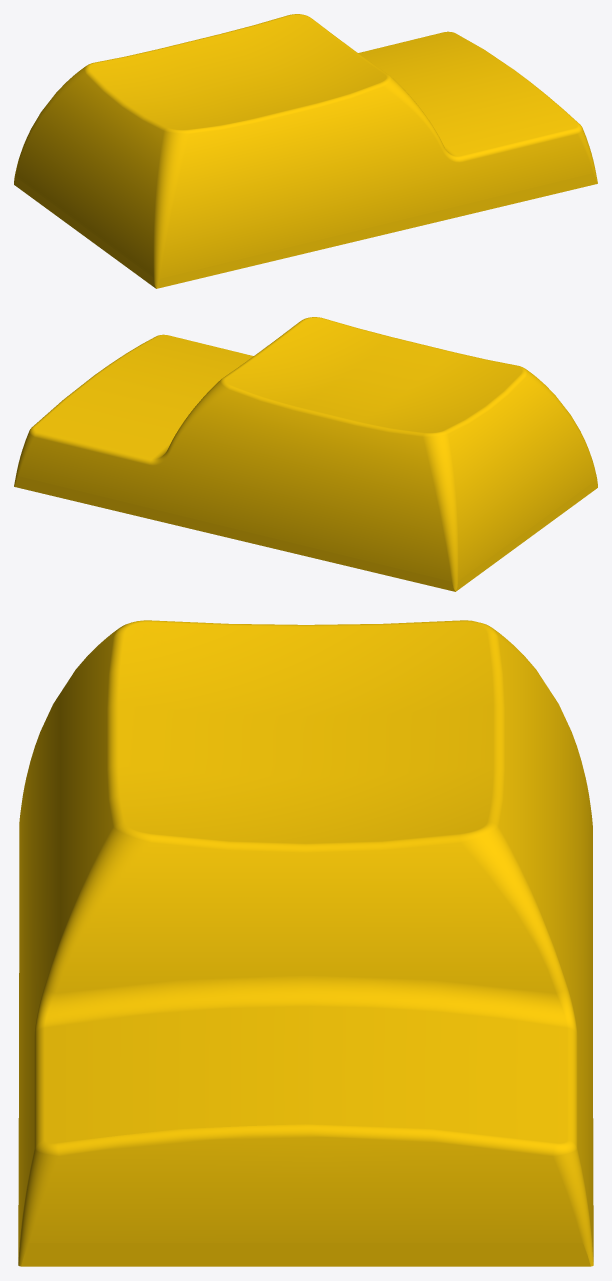
Rendered from 1_75u_stepped.glb.
3 views of the same model, one above another, from view 1: azimuth 30°, elevation 25°; view 2: azimuth 150°, elevation 25°; view 3: azimuth 270°, elevation 25° (orthographic). The views are drawn at different scales.
Parts seen in each view (by area): view 1: Body77; view 2: Body77; view 3: Body77.
Part boxes in pixels (x1,y1,x2,y2): Body77: [14, 14, 597, 288]; Body77: [14, 317, 597, 591]; Body77: [18, 620, 593, 1266].
Bounding box in the file's own units: 32.48 × 9.05 × 18.29.
